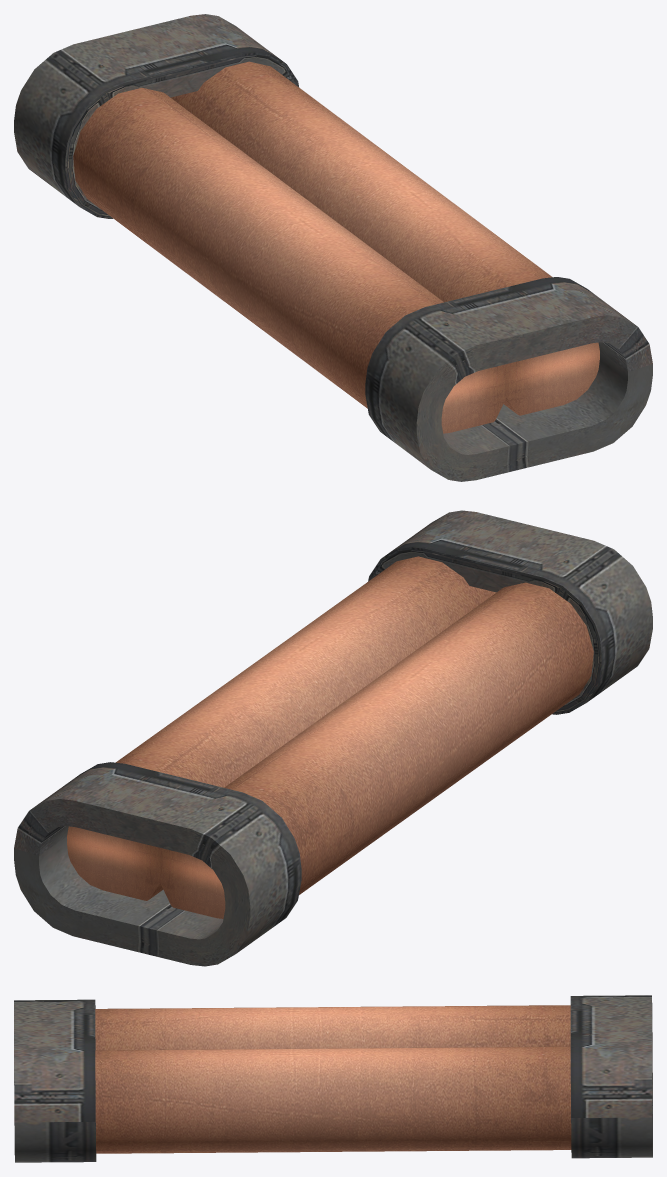
File: static.glb
3 renders of one model, top to bottom at view 1: azimuth 30°, elevation 25°; view 2: azimuth 150°, elevation 25°; view 3: azimuth 270°, elevation 25°, orthographic. The views are drawn at different scales.
Parts seen in each view (by area): view 1: Cylinder_1, Sweep; view 2: Cylinder_1, Sweep; view 3: Cylinder_1, Sweep.
Part boxes in pixels (box(x1,y1,x2,y2)): Cylinder_1: box(73, 61, 599, 433); Sweep: box(14, 14, 652, 481); Cylinder_1: box(67, 556, 593, 918); Sweep: box(14, 510, 652, 966); Cylinder_1: box(95, 1005, 571, 1153); Sweep: box(14, 995, 652, 1162).
Bounding box in the file's own units: 0.7756 × 0.4446 × 2.29.
Materials: 2 (2 with a texture image).
